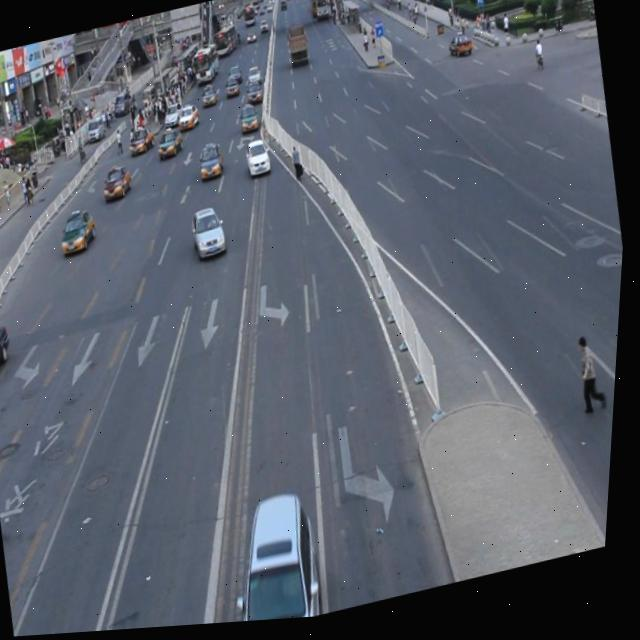car: (224, 487, 335, 627), (189, 204, 233, 267), (58, 208, 103, 258), (0, 315, 22, 385), (101, 163, 137, 205), (242, 138, 275, 183), (196, 141, 229, 186)
